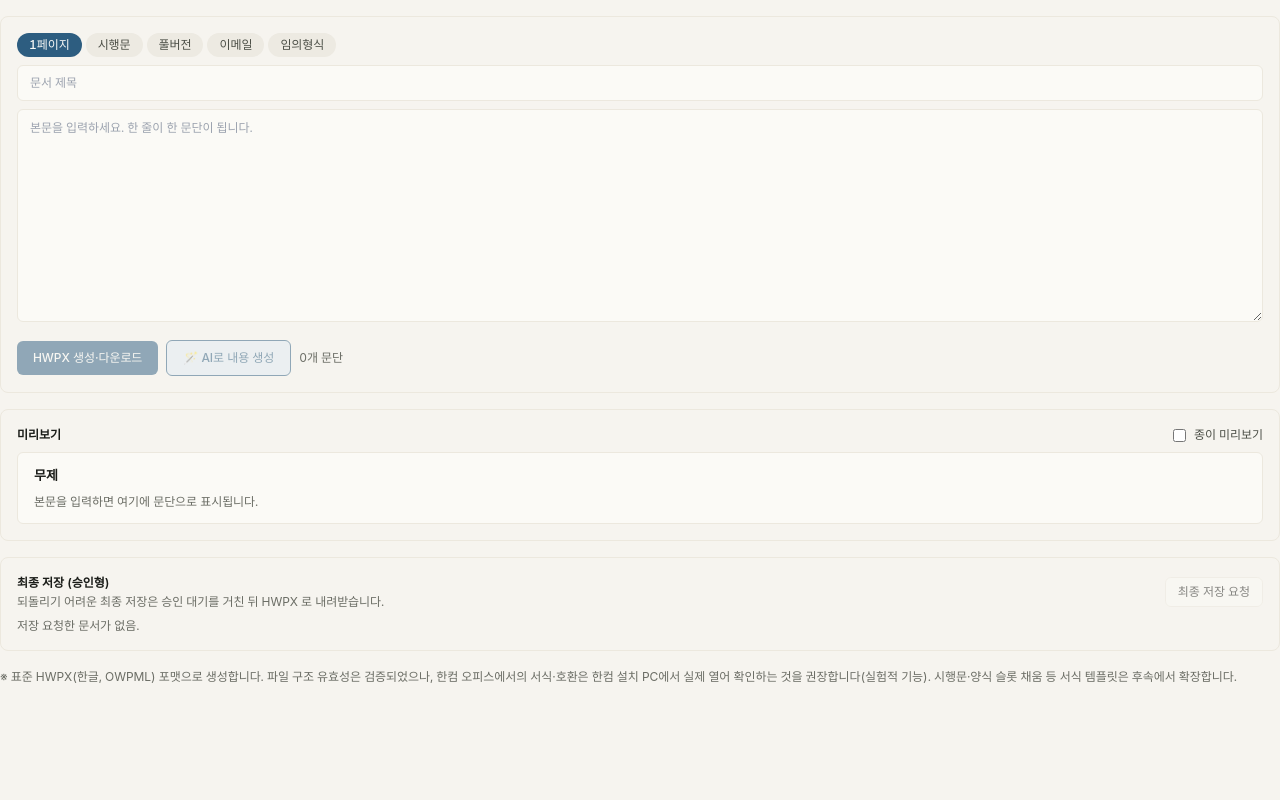
Scenario: DocumentPanel — 종이 미리보기(G005) › 미리보기 API 실패 시 오류 문구를 표시한다(L5)
The image size is (1280, 800).
Type "x" into the text box with placeholder "본문을 입력하세요. 한 줄이 한 문단이 됩니다.".
click(640, 216); type("x")  # box [17,109,1263,322]
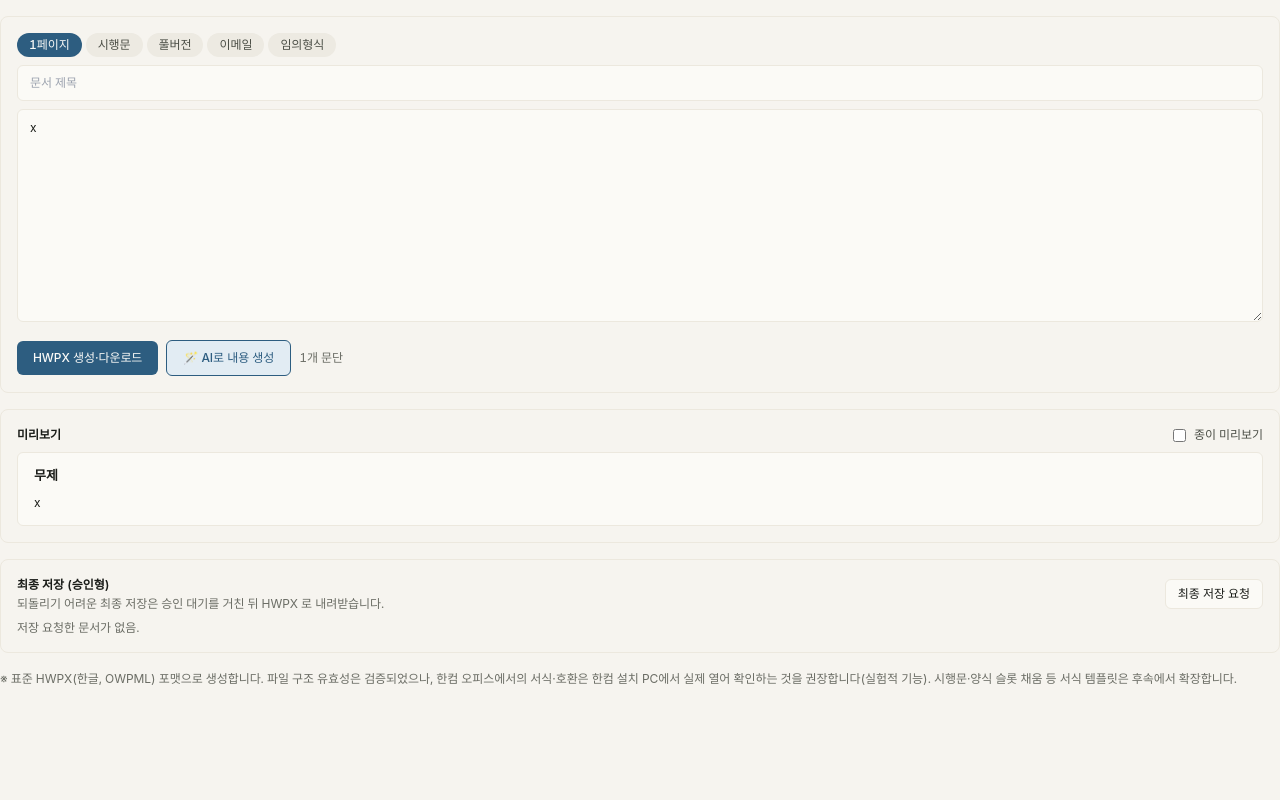
Click the checkbox labelled "종이 미리보기".
click(1180, 435)  # box [1173,428,1186,442]
Wait 500 ms
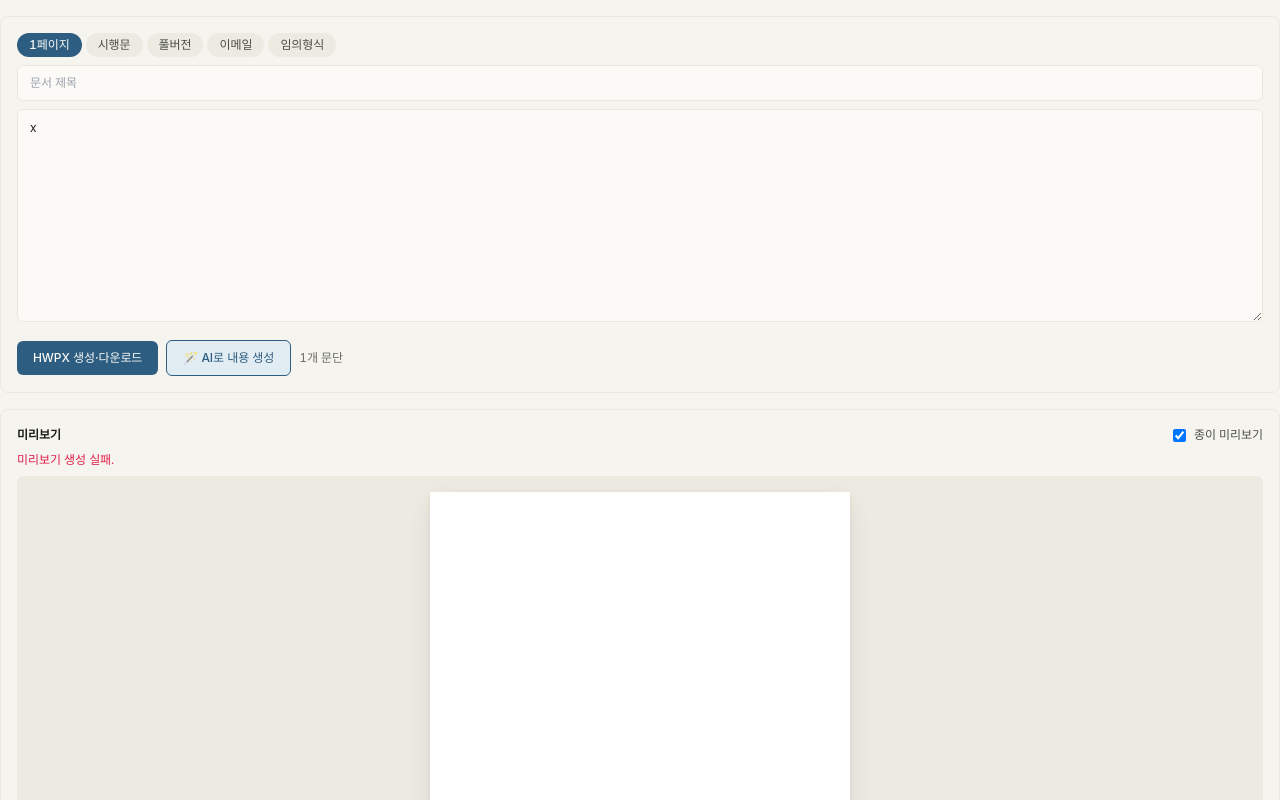
Expected: the text "미리보기 생성 실패." is shown, [17,452,114,467]
